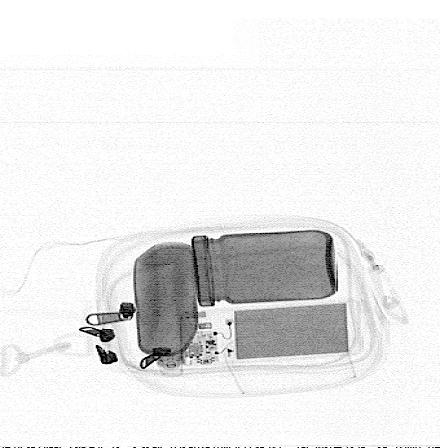Powerbank: (180, 299, 354, 369)
